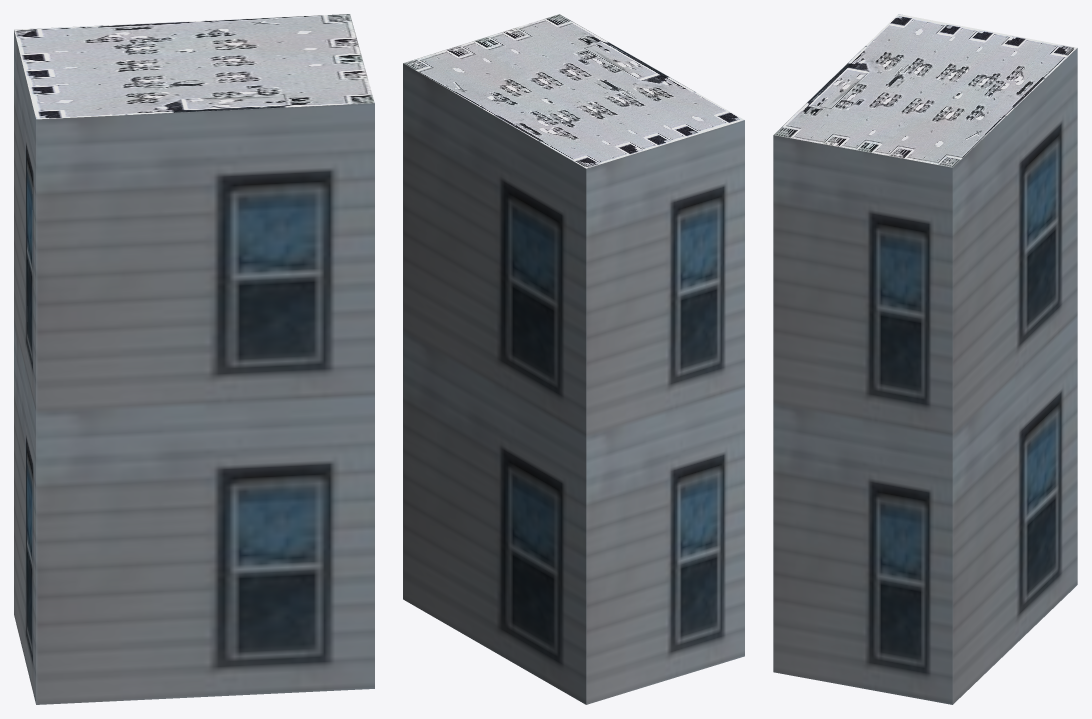
File: ResTex__566.fbx
3 renders of one model, left to right at view 1: azimuth 30°, elevation 25°; view 2: azimuth 150°, elevation 25°; view 3: azimuth 270°, elevation 25°, orthographic. The views are drawn at different scales.
Visible parts, largest first — view 1: CityEngineMaterial_18_m, CityEngineMaterial_m; view 2: CityEngineMaterial_18_m, CityEngineMaterial_m; view 3: CityEngineMaterial_18_m, CityEngineMaterial_m.
Part boxes in pixels (left/top/right/bottom): CityEngineMaterial_18_m: left=14, top=30, right=374, bottom=704; CityEngineMaterial_m: left=14, top=14, right=374, bottom=119; CityEngineMaterial_18_m: left=403, top=63, right=744, bottom=704; CityEngineMaterial_m: left=403, top=14, right=744, bottom=168; CityEngineMaterial_18_m: left=773, top=48, right=1077, bottom=704; CityEngineMaterial_m: left=774, top=14, right=1077, bottom=167.
Size of the model in its own units: 3.68 by 6 by 3.08.
2 materials, 2 textured.
